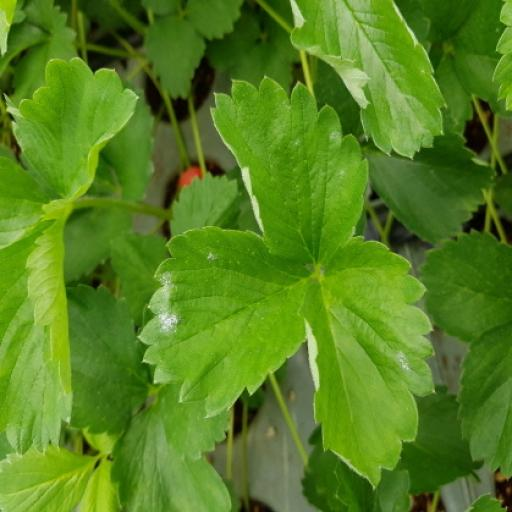Powdery Mildew Leaf: (138, 225, 325, 418), (299, 234, 437, 491), (209, 75, 369, 266), (288, 0, 449, 159)
